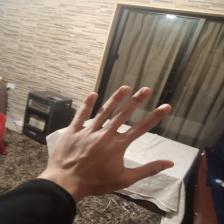five: (52, 82, 179, 186)
